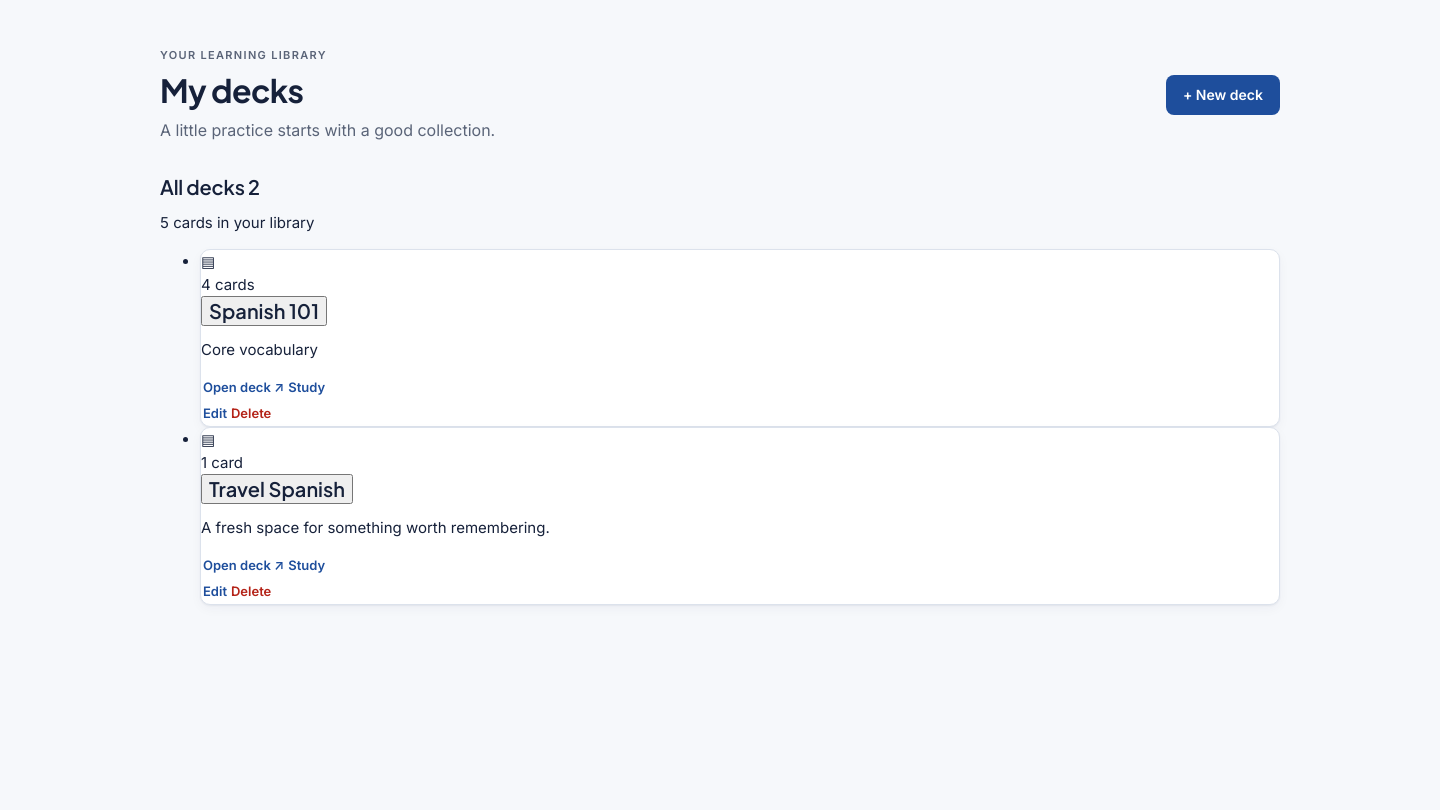
Test: editing a deck saves it and shows the new name
Click the button with aria-label "Edit Spanish 101" at point(215, 413), box [201,400,229,426]
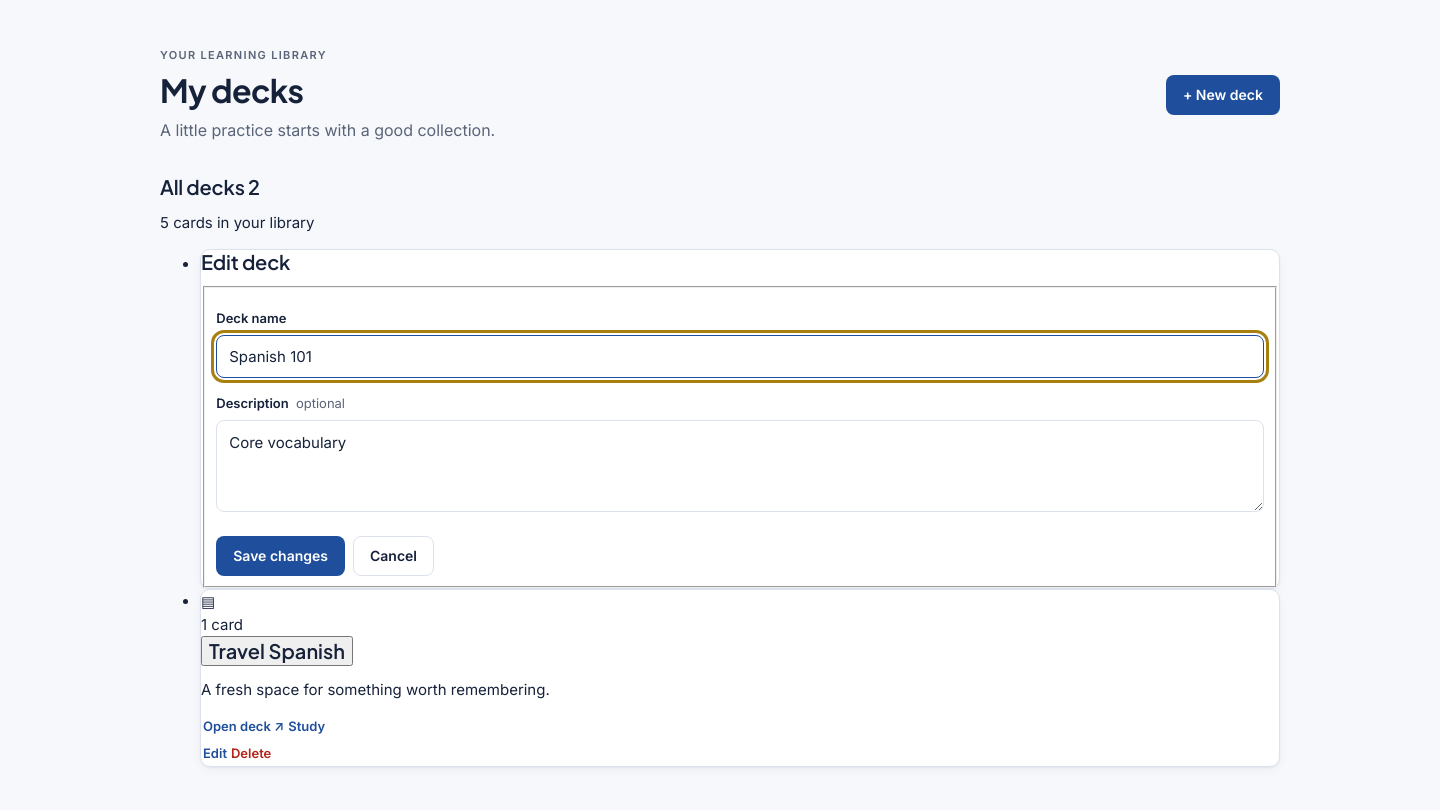
Replace the text in the field labelled "Deck name" with "Spanish 102" at point(740, 357), box [216,335,1264,378]
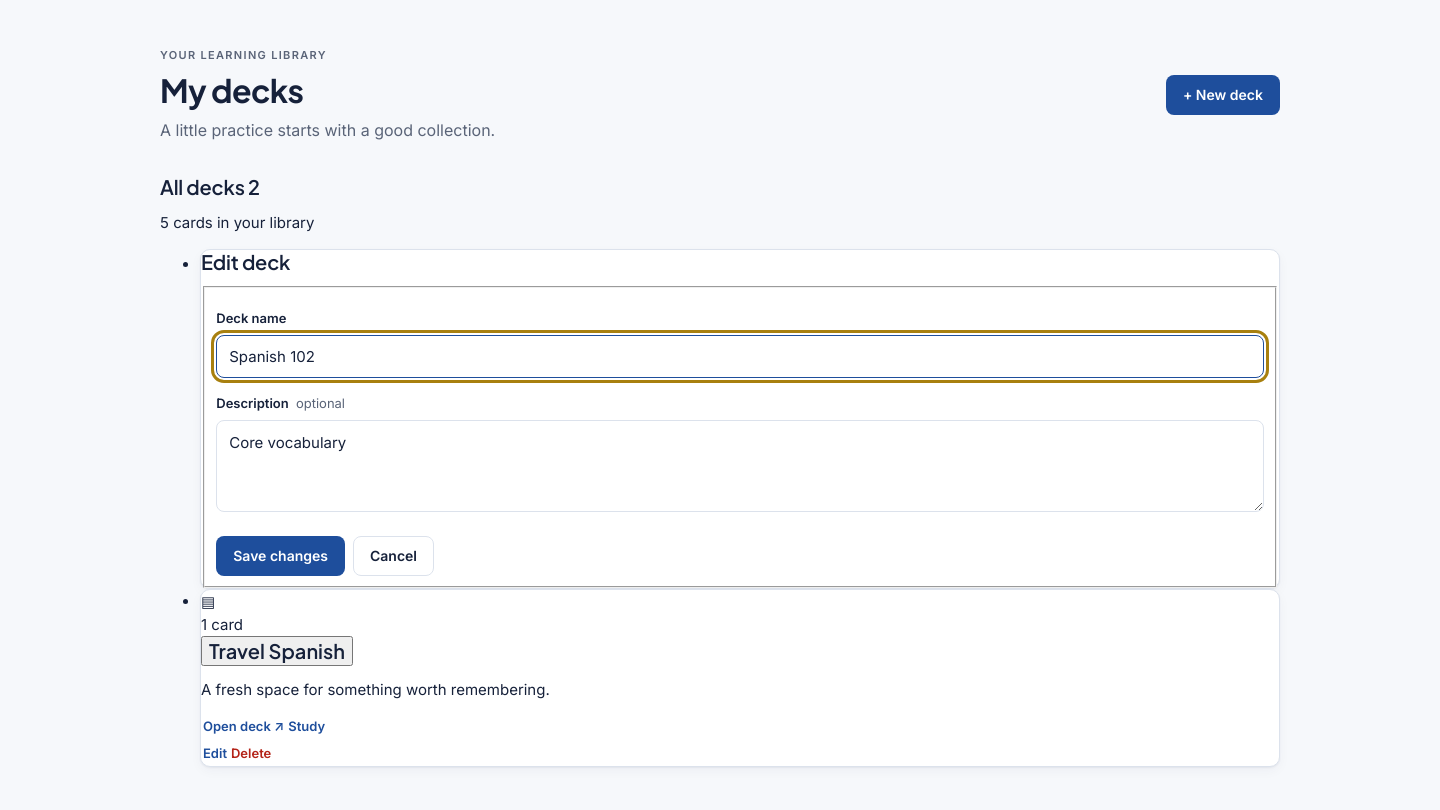
Click the button "Save changes" at point(281, 556), box [216,536,345,576]
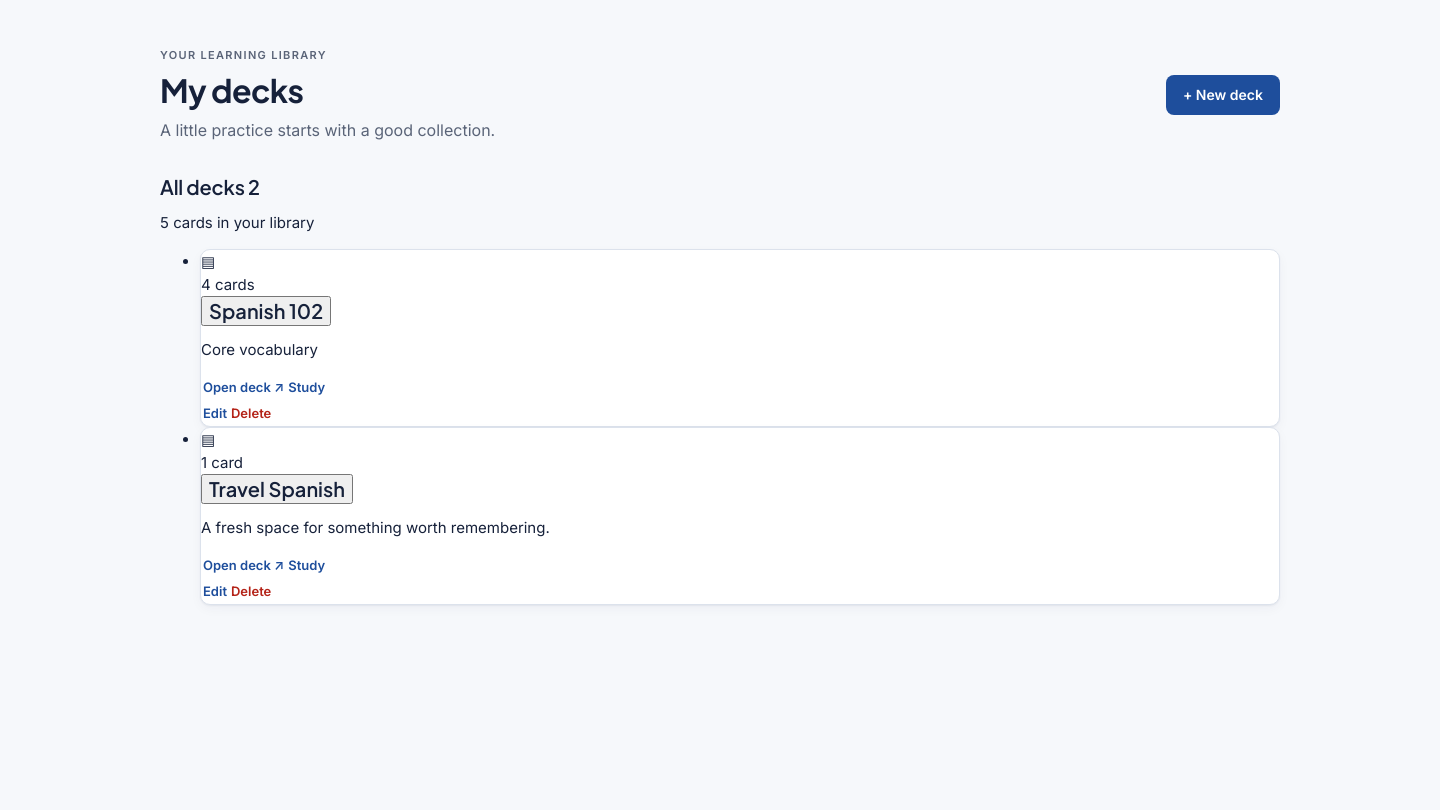
expect the button "Spanish 102" is shown: met, box [201,296,331,326]
